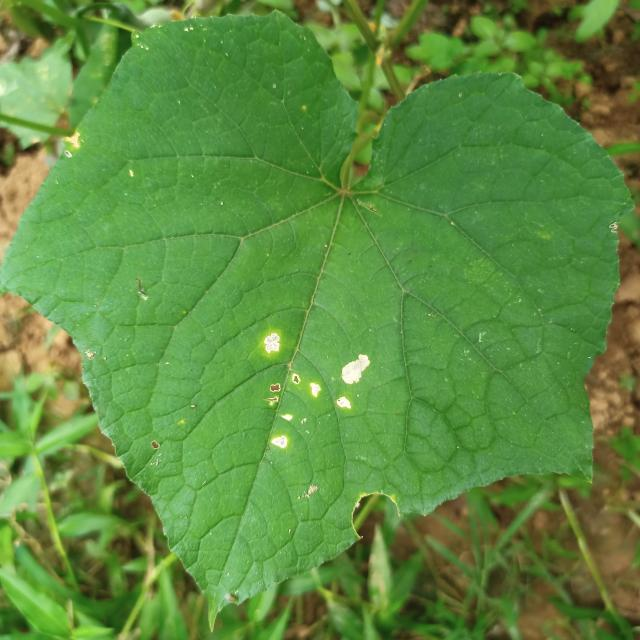disease_cucumber: (262, 334, 371, 449)
